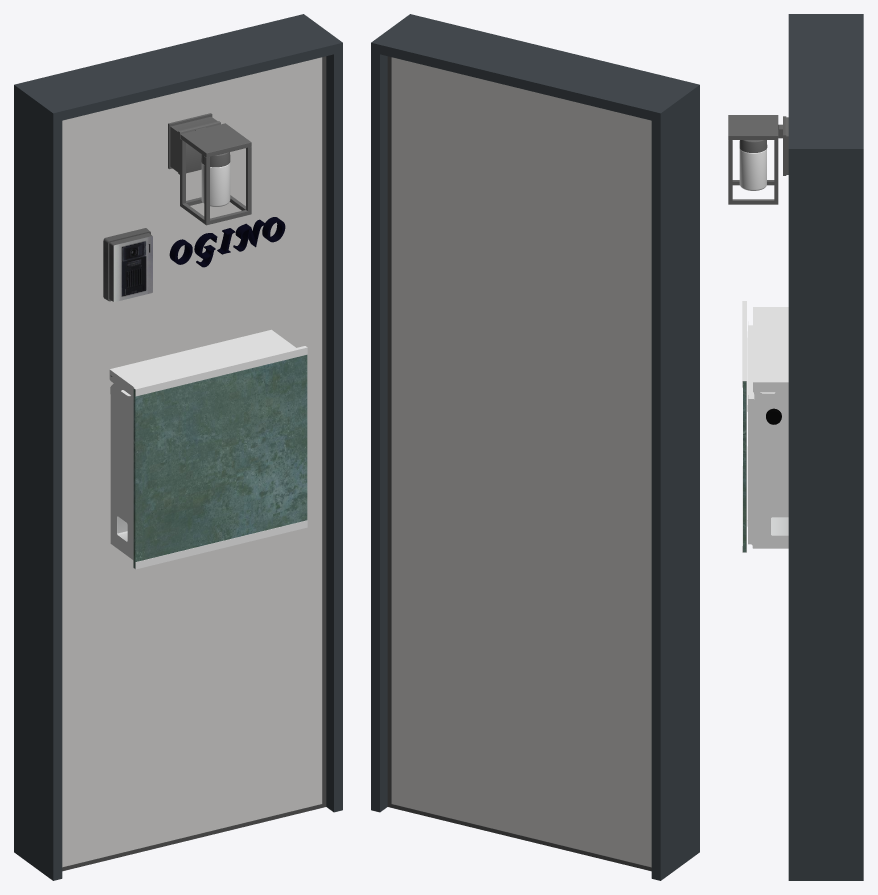
The model's file is 640-1620_matwhite.fbx.
3 views of the same model, side by side, from view 1: azimuth 30°, elevation 25°; view 2: azimuth 150°, elevation 25°; view 3: azimuth 270°, elevation 25° (orthographic). The views are drawn at different scales.
Parts seen in each view (by area): view 1: 640-1620_matwhite; view 2: 640-1620_matwhite; view 3: 640-1620_matwhite.
Part boxes in pixels (box(x1,y1,x2,y2)): 640-1620_matwhite: box(14, 14, 342, 880); 640-1620_matwhite: box(371, 14, 699, 880); 640-1620_matwhite: box(728, 14, 863, 880).
Size of the model in its own units: 64 by 162 by 27.12.
Materials: 13 (5 with a texture image).
